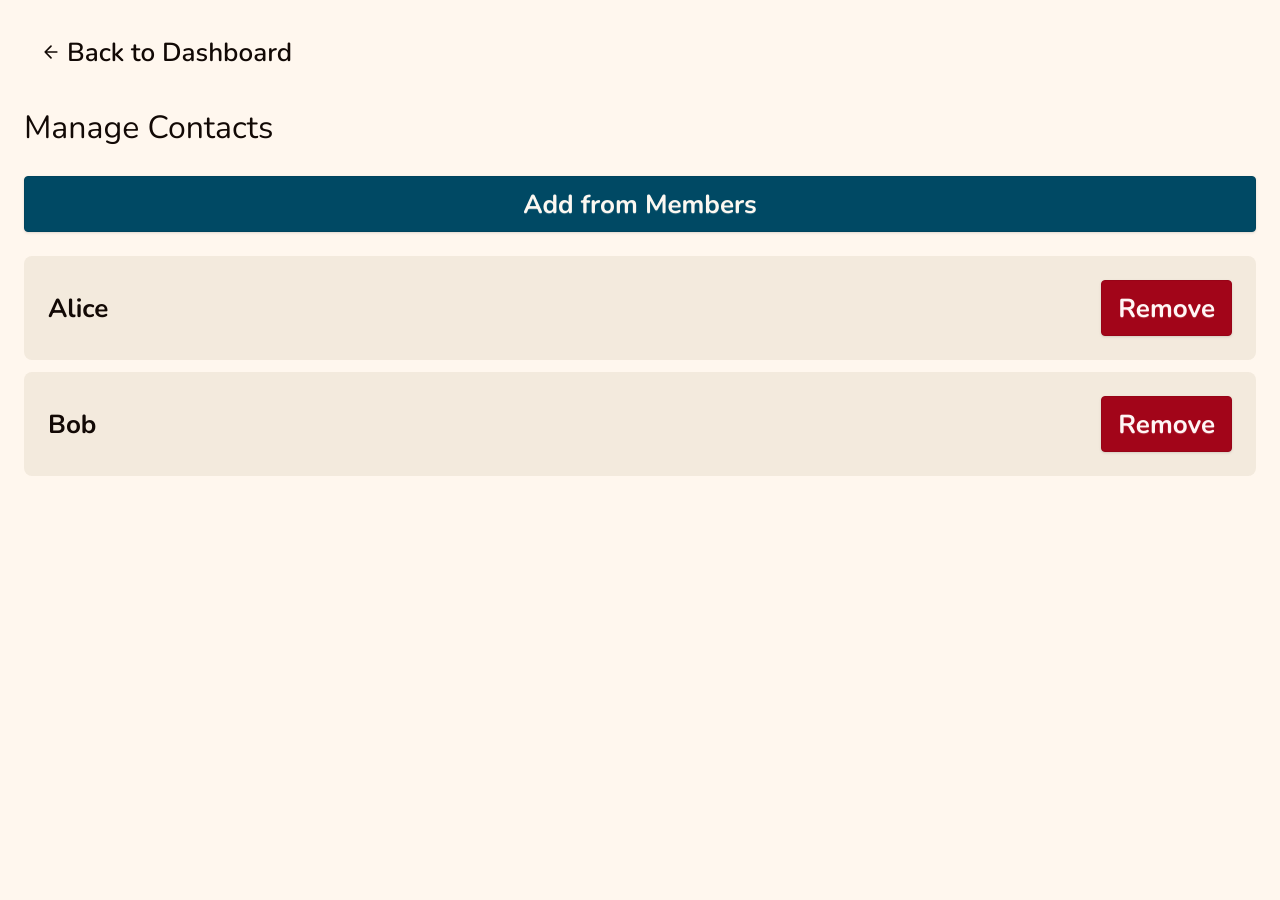
Test: ManageContacts › clicking remove shows ConfirmDialog
Click the button "Remove" in the row of "Alice" at (1167, 308), box [1101,280,1232,336]
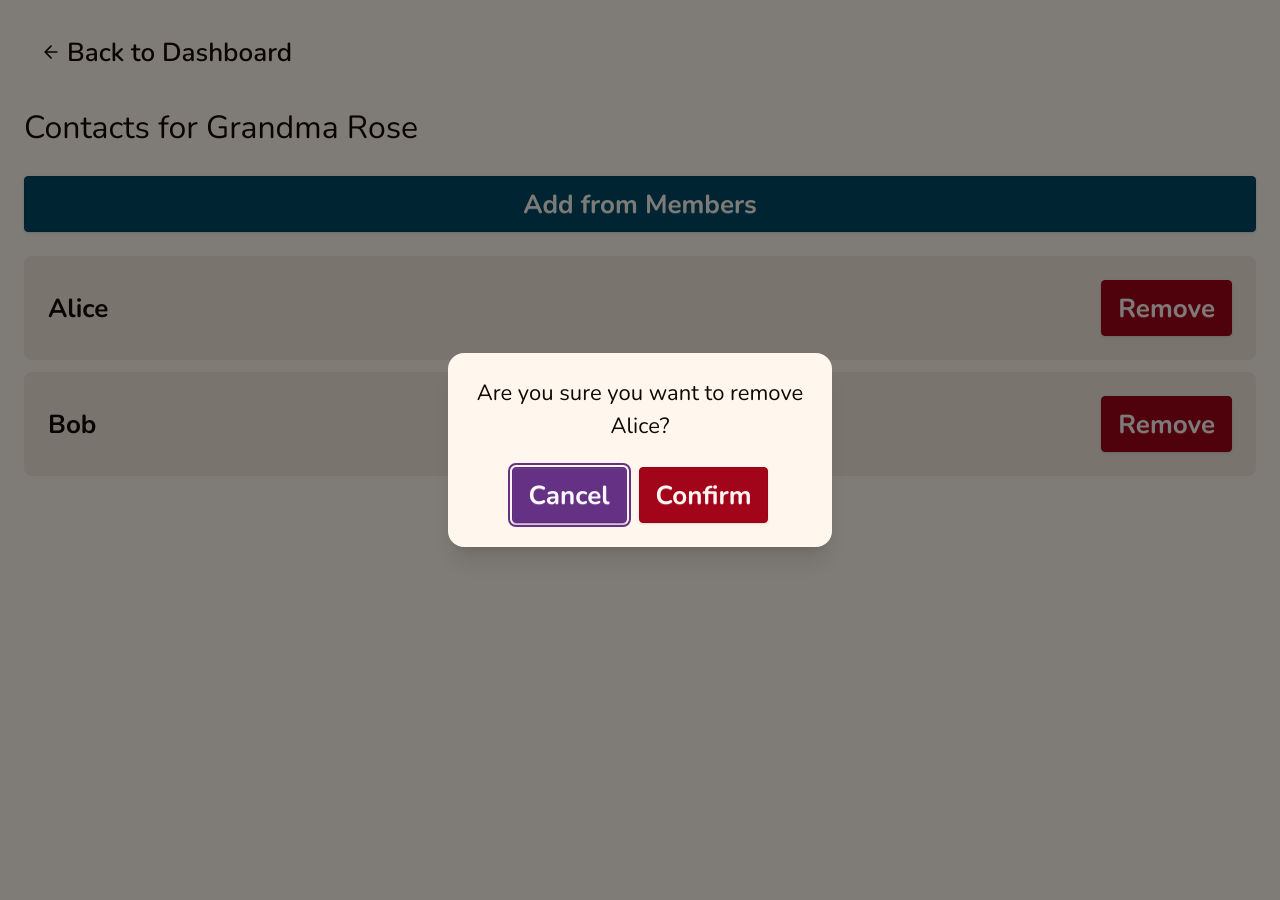
Now the dialog is shown
